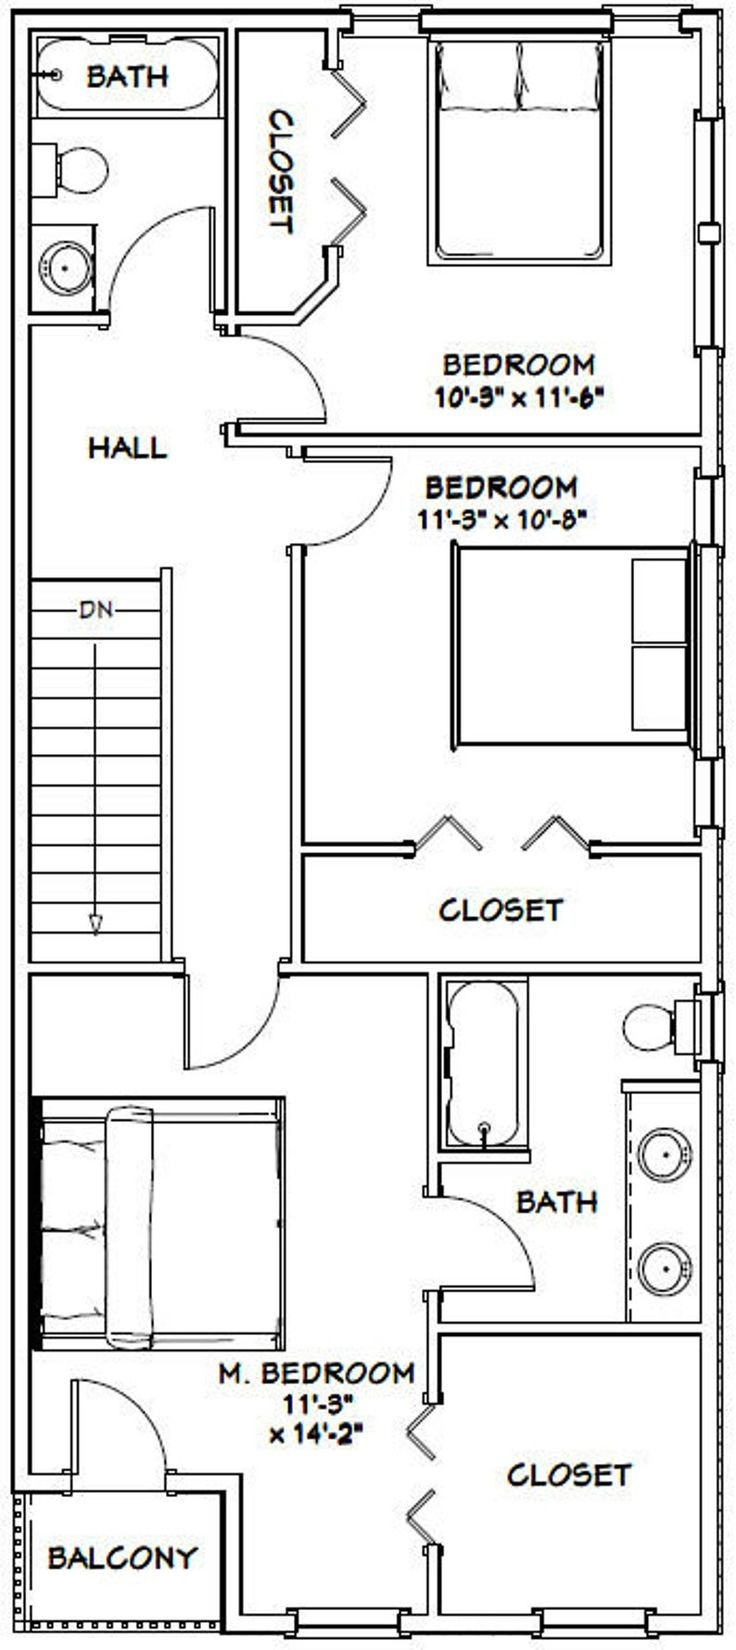door: (383, 1169, 585, 1327), (406, 800, 634, 913), (89, 169, 225, 349), (59, 1360, 196, 1521), (168, 955, 313, 1093), (275, 420, 399, 577), (309, 49, 389, 288), (217, 306, 331, 444), (373, 1395, 454, 1563)
room: (283, 428, 724, 984), (232, 20, 736, 468), (20, 970, 434, 1497), (22, 311, 301, 972), (427, 972, 722, 1330), (424, 1325, 736, 1646), (4, 9, 234, 316)
wall: (1, 1, 75, 1649), (257, 525, 341, 990), (683, 1049, 735, 1650), (227, 418, 711, 481), (132, 541, 196, 979), (255, 946, 736, 1004), (204, 9, 262, 339), (13, 937, 192, 999), (15, 7, 359, 39)
window: (676, 88, 736, 380), (390, 1, 626, 48), (531, 1581, 661, 1650), (273, 1593, 402, 1650), (685, 730, 729, 856)
